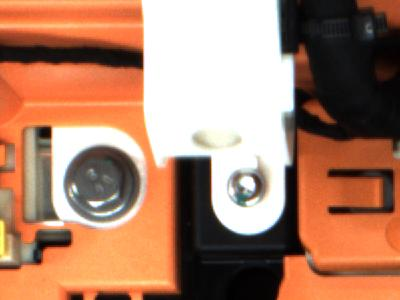nut_b: (55, 144, 140, 228)
